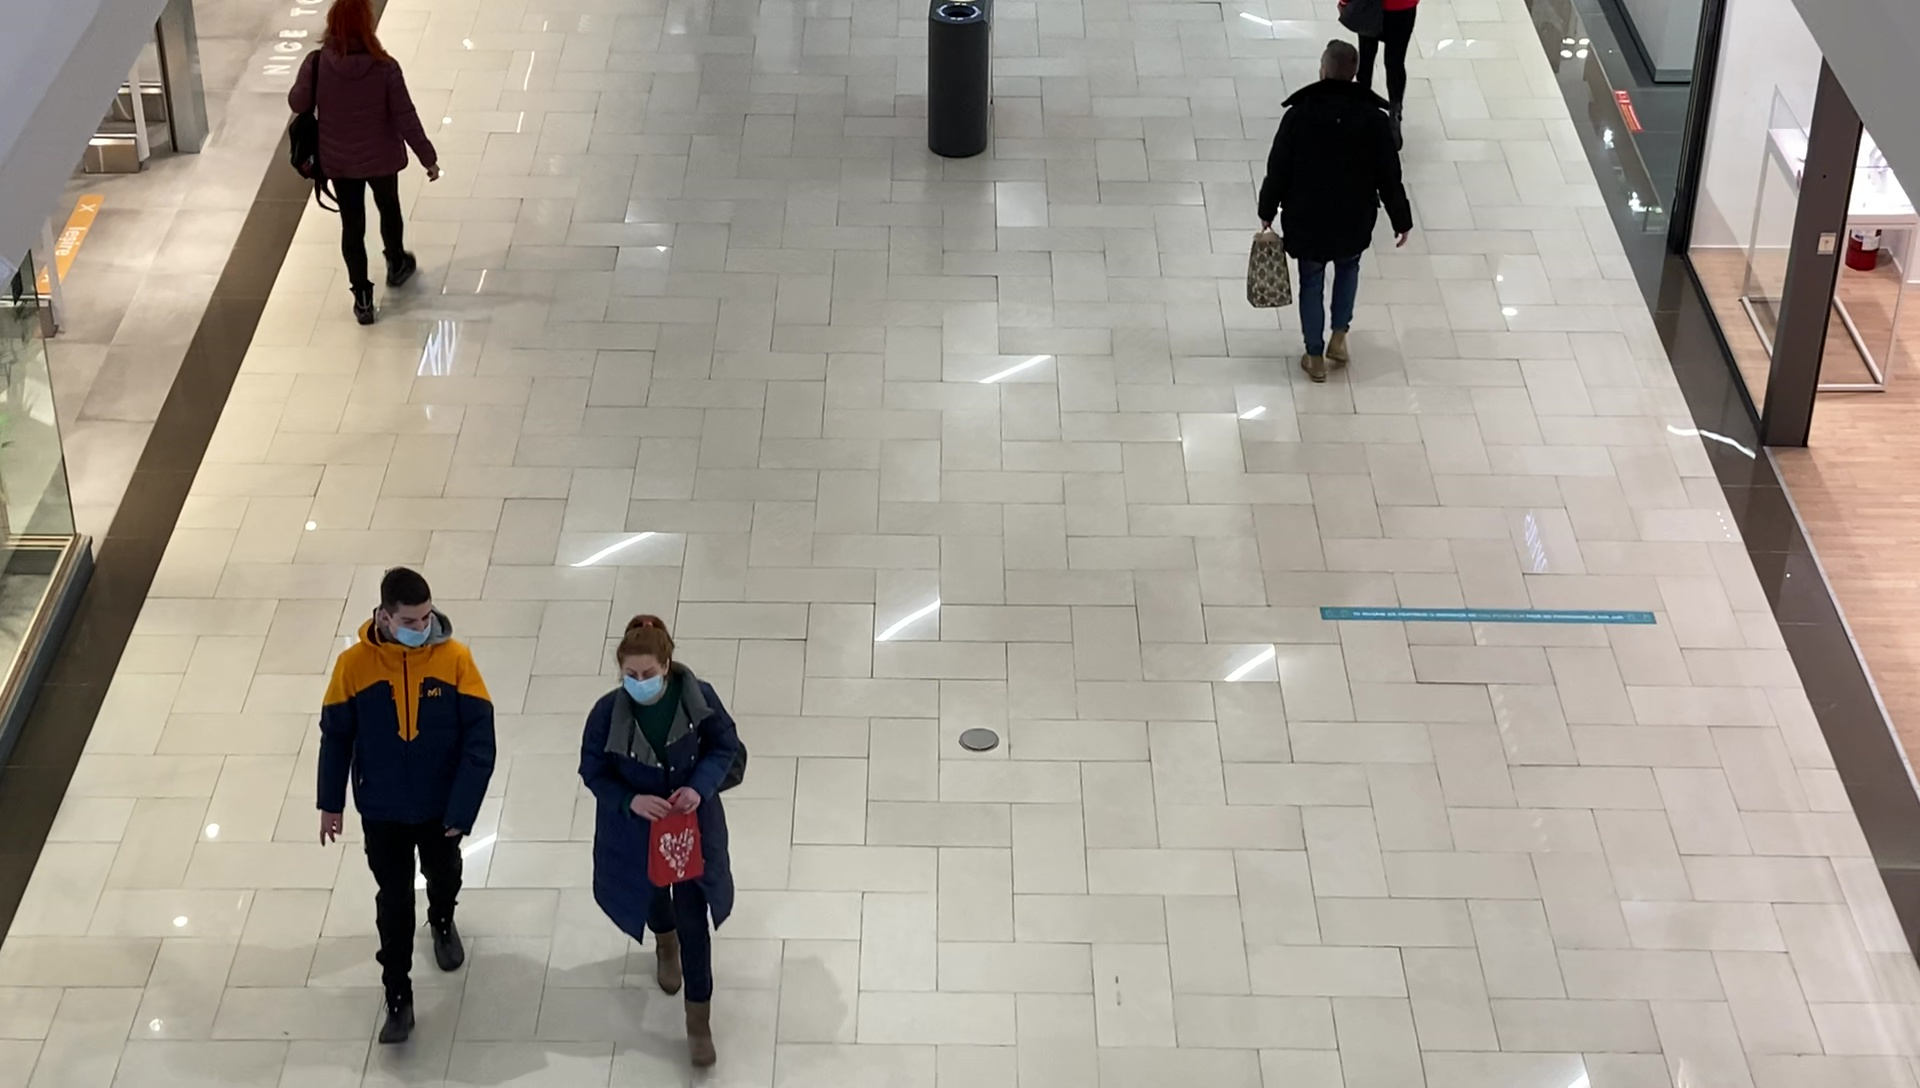person: (315, 567, 497, 1043), (577, 614, 750, 1069), (1249, 39, 1413, 382), (289, 1, 440, 325)
